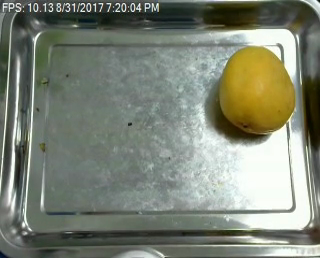Mango: (215, 46, 296, 135)
